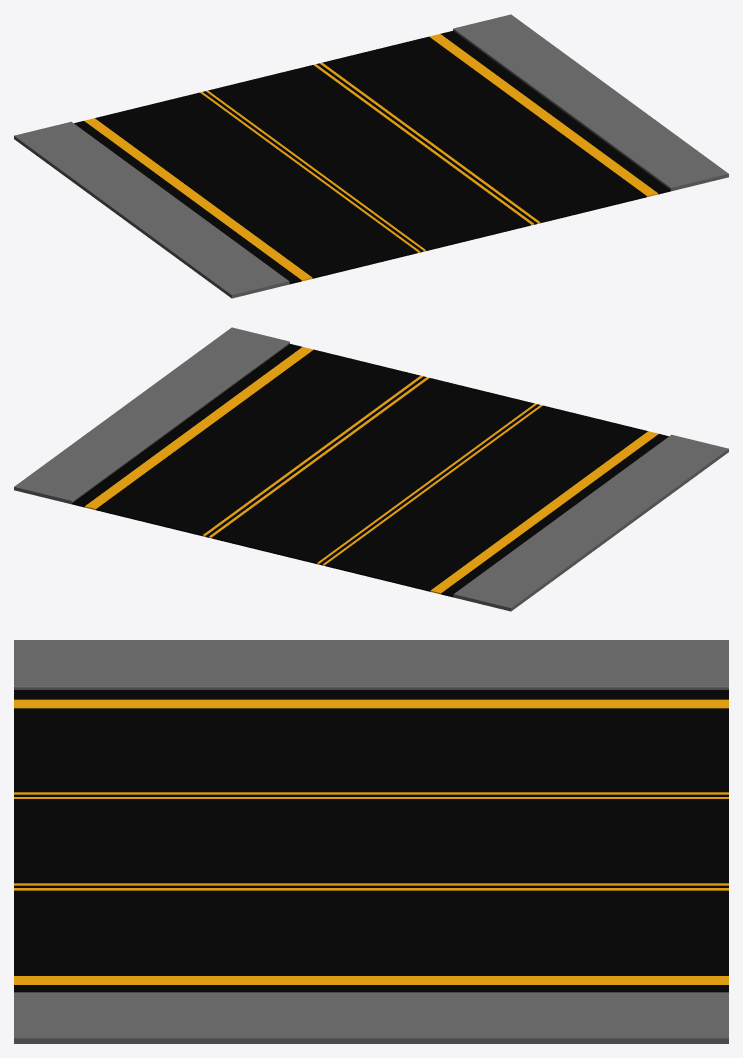
The model's file is Estrada_2.fbx.
The picture shows the model from 3 angles, top to bottom: view 1: azimuth 30°, elevation 25°; view 2: azimuth 150°, elevation 25°; view 3: azimuth 270°, elevation 25°; orthographic projection. The views are drawn at different scales.
Visible parts, largest first — view 1: Estrada 2; view 2: Estrada 2; view 3: Estrada 2.
Boxes of the visible parts, box(x1,y1,x2,y2) form: Estrada 2: box(14, 14, 728, 298); Estrada 2: box(14, 327, 728, 611); Estrada 2: box(14, 640, 728, 1043).
Bounding box in the file's own units: 868 × 659 × 5.74.
